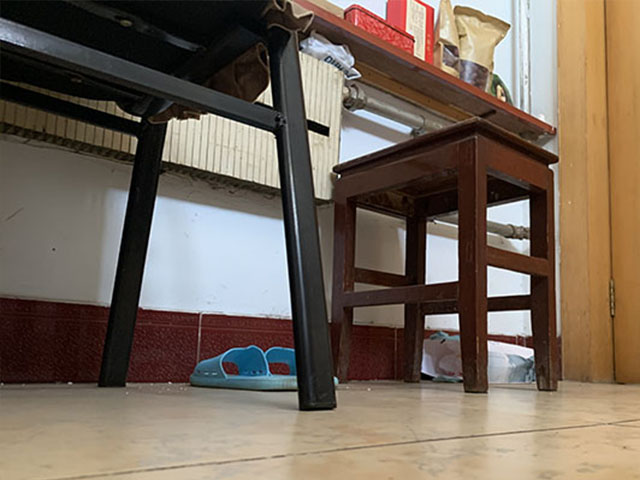slippers: (187, 342, 298, 391)
stool: (1, 1, 339, 414), (330, 115, 558, 395)
